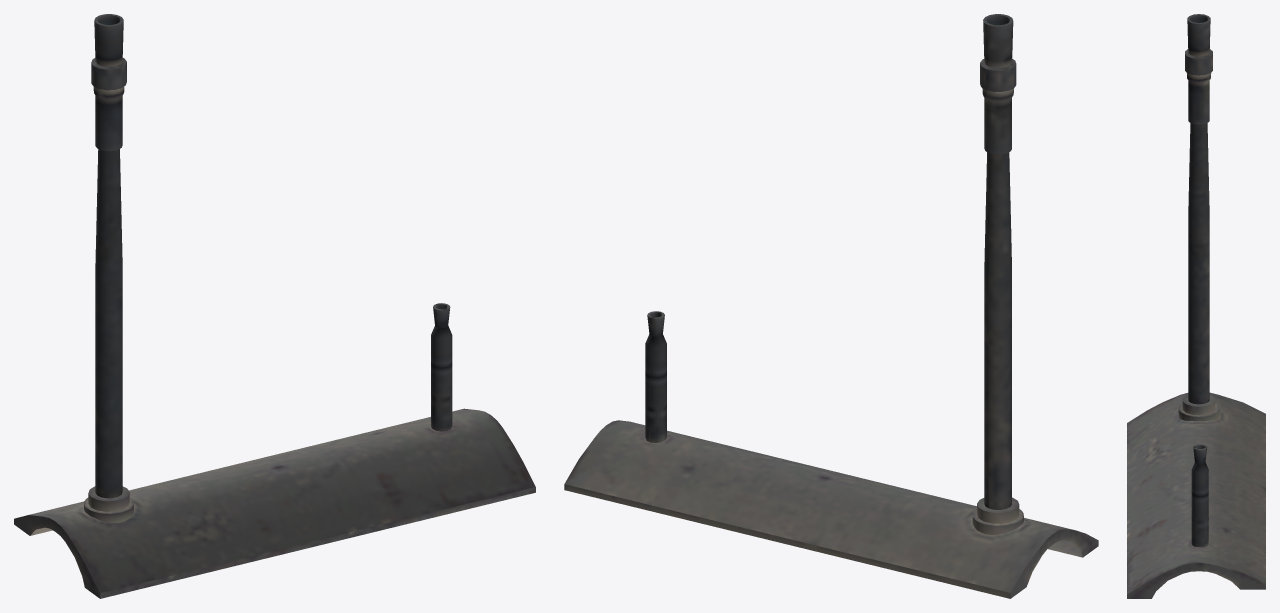
Rendered from Gun_05.glb.
3 renders of one model, left to right at view 1: azimuth 30°, elevation 25°; view 2: azimuth 150°, elevation 25°; view 3: azimuth 270°, elevation 25°, orthographic. The views are drawn at different scales.
Visible parts, largest first — view 1: set_0_group_0; view 2: set_0_group_0; view 3: set_0_group_0.
Boxes of the visible parts, x1,y1,x2,y2 form: set_0_group_0: (14, 14, 535, 598); set_0_group_0: (564, 14, 1098, 598); set_0_group_0: (1127, 14, 1265, 598).
Bounding box in the file's own units: 0.8098 × 0.947 × 0.2771.
1 material, 1 textured.
